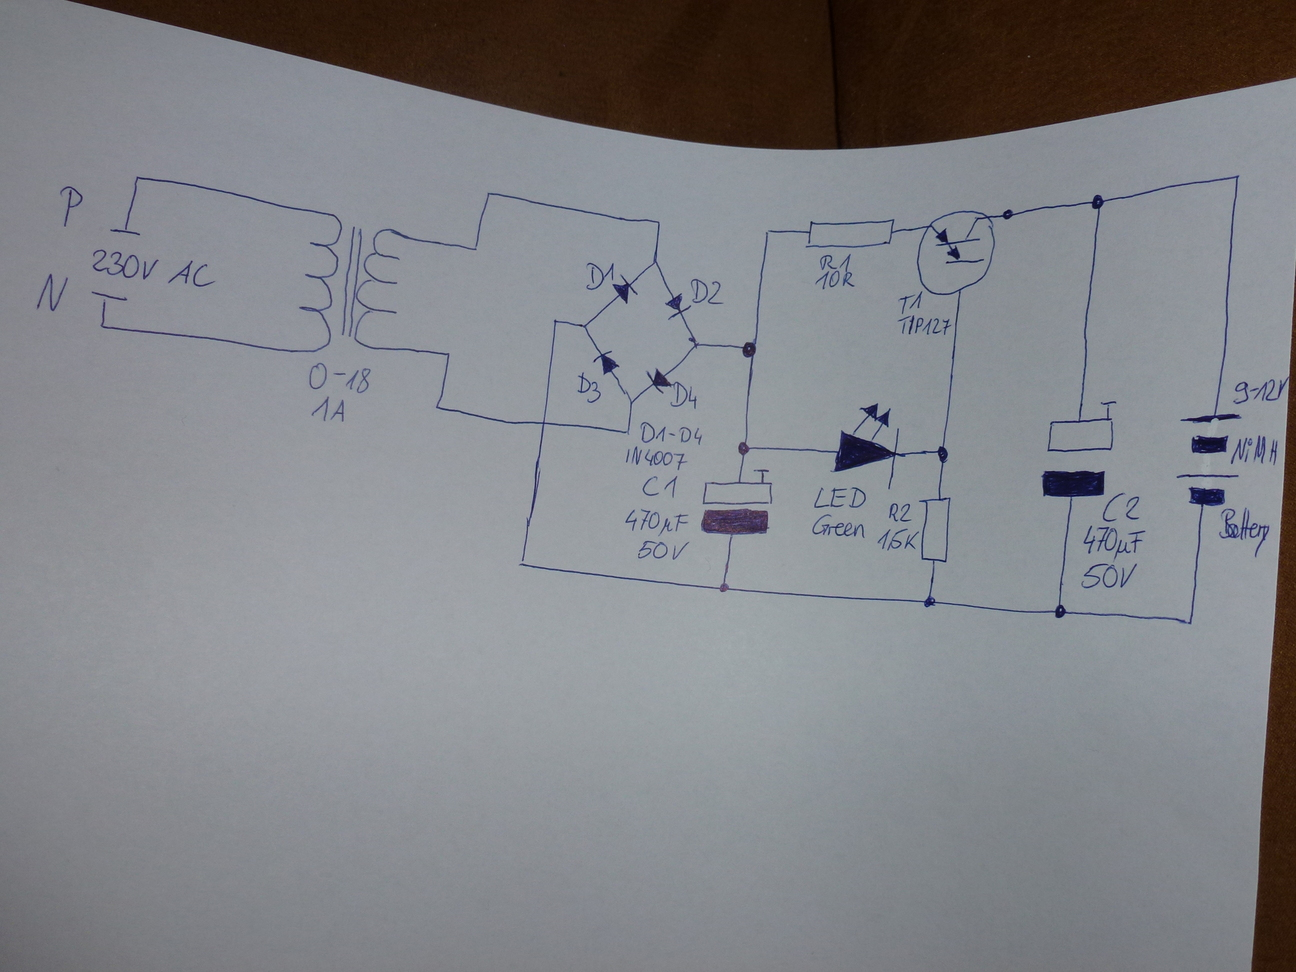capacitor.polarized: (1038, 398, 1121, 500), (697, 467, 776, 539)
crossover: (537, 418, 549, 428)
diode: (607, 272, 638, 304), (591, 346, 620, 377), (644, 366, 674, 395), (662, 290, 689, 319)
diode.light_emitting: (829, 401, 902, 491)
junction: (1086, 191, 1109, 214), (741, 338, 759, 362), (933, 444, 951, 464), (1050, 601, 1068, 621), (735, 439, 753, 458), (715, 580, 731, 595), (921, 593, 937, 609), (129, 172, 144, 186), (997, 208, 1013, 222), (432, 399, 446, 414), (1182, 615, 1196, 629), (481, 187, 494, 200), (442, 348, 453, 361), (651, 216, 664, 228), (1230, 171, 1243, 182), (96, 318, 107, 331), (762, 226, 774, 238), (689, 338, 701, 349), (624, 393, 636, 404), (648, 258, 660, 269), (581, 319, 591, 330), (516, 557, 527, 569), (470, 243, 480, 254), (550, 315, 559, 326)
resistor: (804, 215, 893, 250), (916, 494, 953, 563)
terminal: (90, 286, 122, 307), (106, 223, 146, 240)
text: (87, 244, 215, 290), (1218, 504, 1272, 561), (1081, 517, 1149, 560), (307, 362, 373, 392), (622, 506, 689, 535), (1229, 431, 1280, 468), (1231, 375, 1290, 406), (54, 182, 87, 234), (636, 422, 702, 447), (1080, 563, 1139, 591), (33, 269, 69, 313), (811, 484, 868, 513), (624, 445, 689, 469), (1100, 490, 1145, 524), (813, 513, 867, 540), (896, 311, 952, 337), (635, 537, 692, 562), (307, 393, 351, 425), (583, 260, 621, 293), (687, 276, 725, 308), (875, 525, 918, 551), (638, 472, 678, 497), (814, 270, 858, 292), (668, 380, 699, 411), (812, 251, 853, 272), (575, 371, 601, 401), (886, 501, 914, 524), (897, 294, 925, 311)
transformer: (291, 208, 413, 360)
transistor: (916, 213, 997, 303)
voltage.dc: (1172, 414, 1245, 509)
